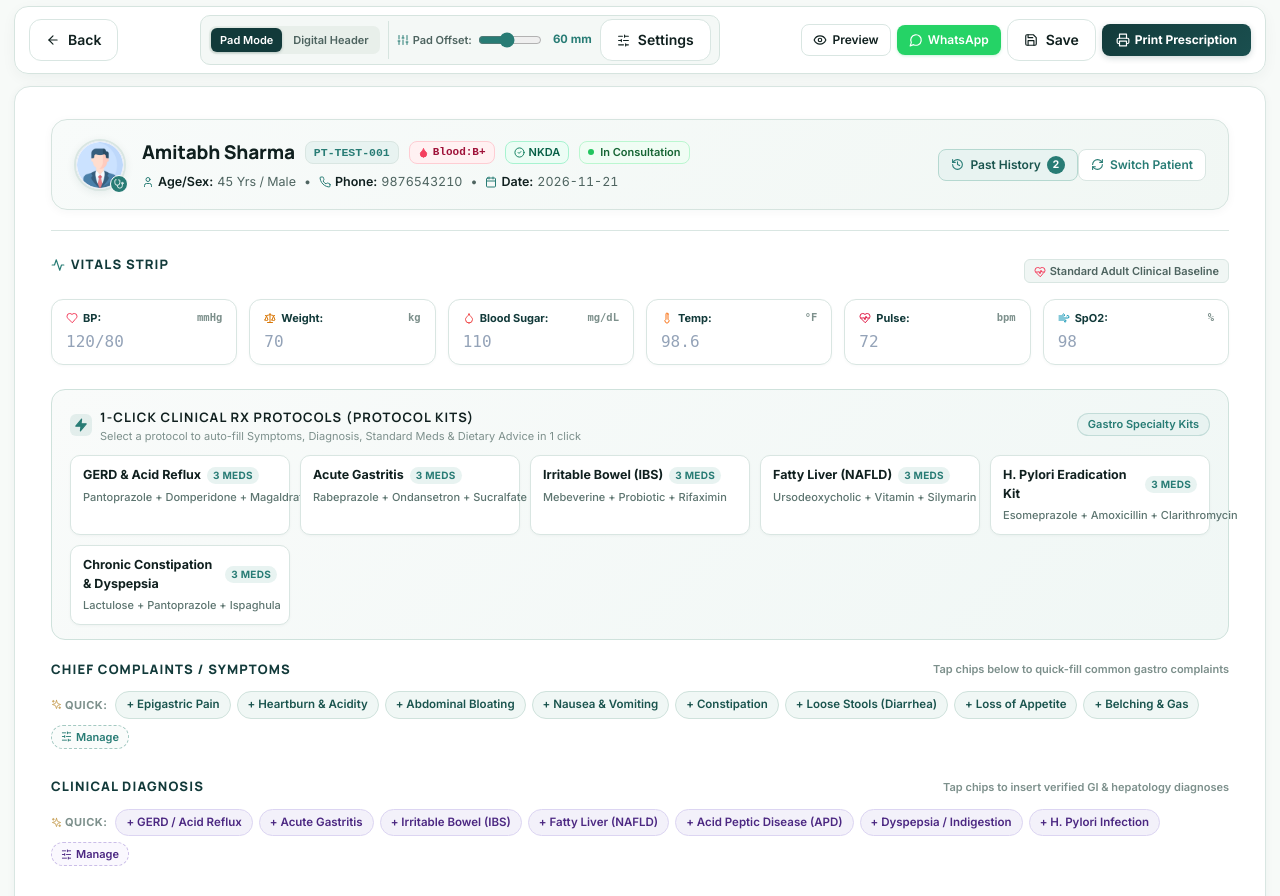
Test case: Prescription Studio - 1-Click Rx Protocols & Patient Past History Drawer › supports searching past records, collapsible timeline, and adding individual medicines
The width and height of the screenshot is (1280, 896).
# Open Past History Drawer
Click the button with aria-label "Patient Past Visits History". click: (1008, 165)
box: [938,149,1078,181]
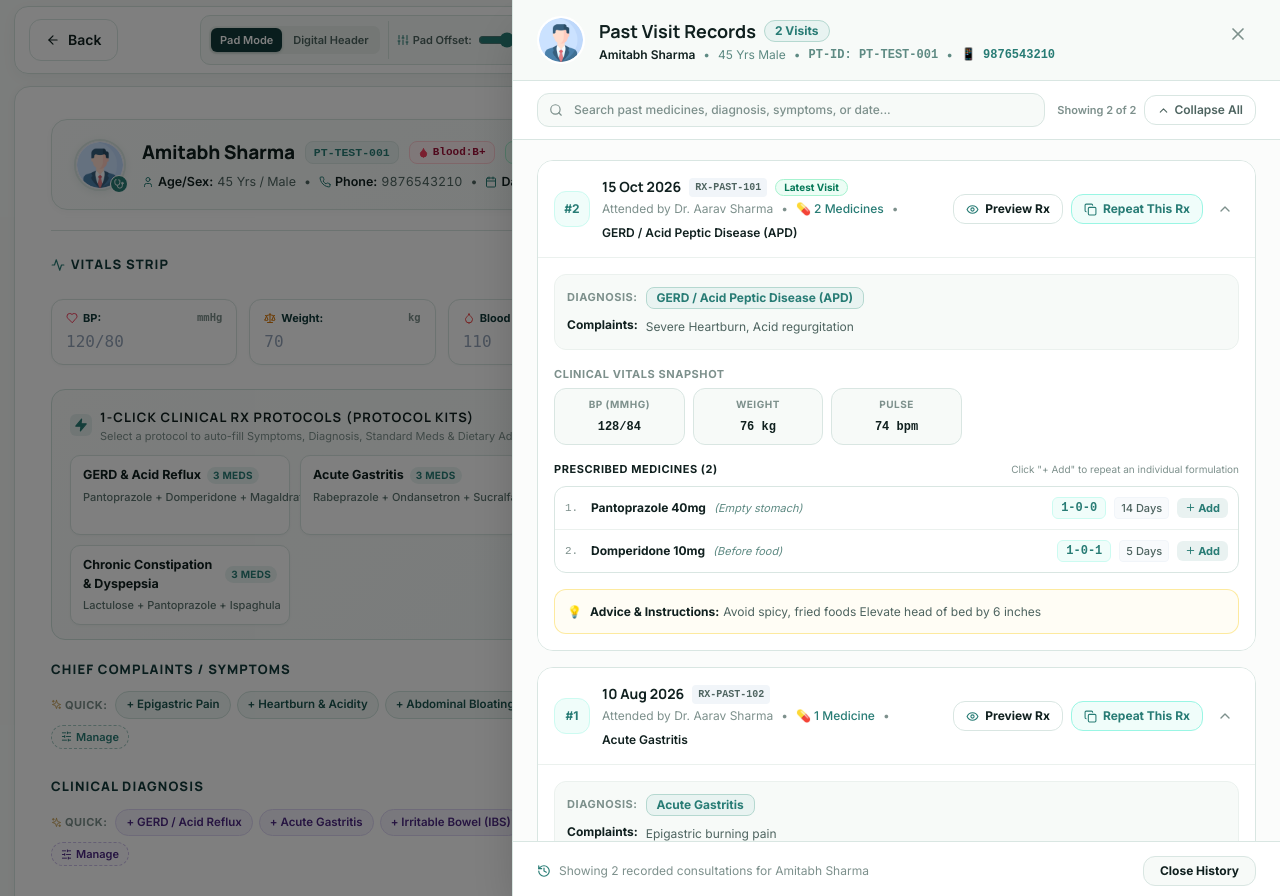
Result: the heading "Past Visit Records" is shown at [599,17,756,45]
Result: the field with placeholder "Search past medicines, diagnosis, symptoms, or date..." is shown
# Type "Domperidone" into search
Type "Domperidone" into the field with placeholder "Search past medicines, diagnosis, symptoms, or date...". click: (791, 110)
box: [537,93,1045,127]
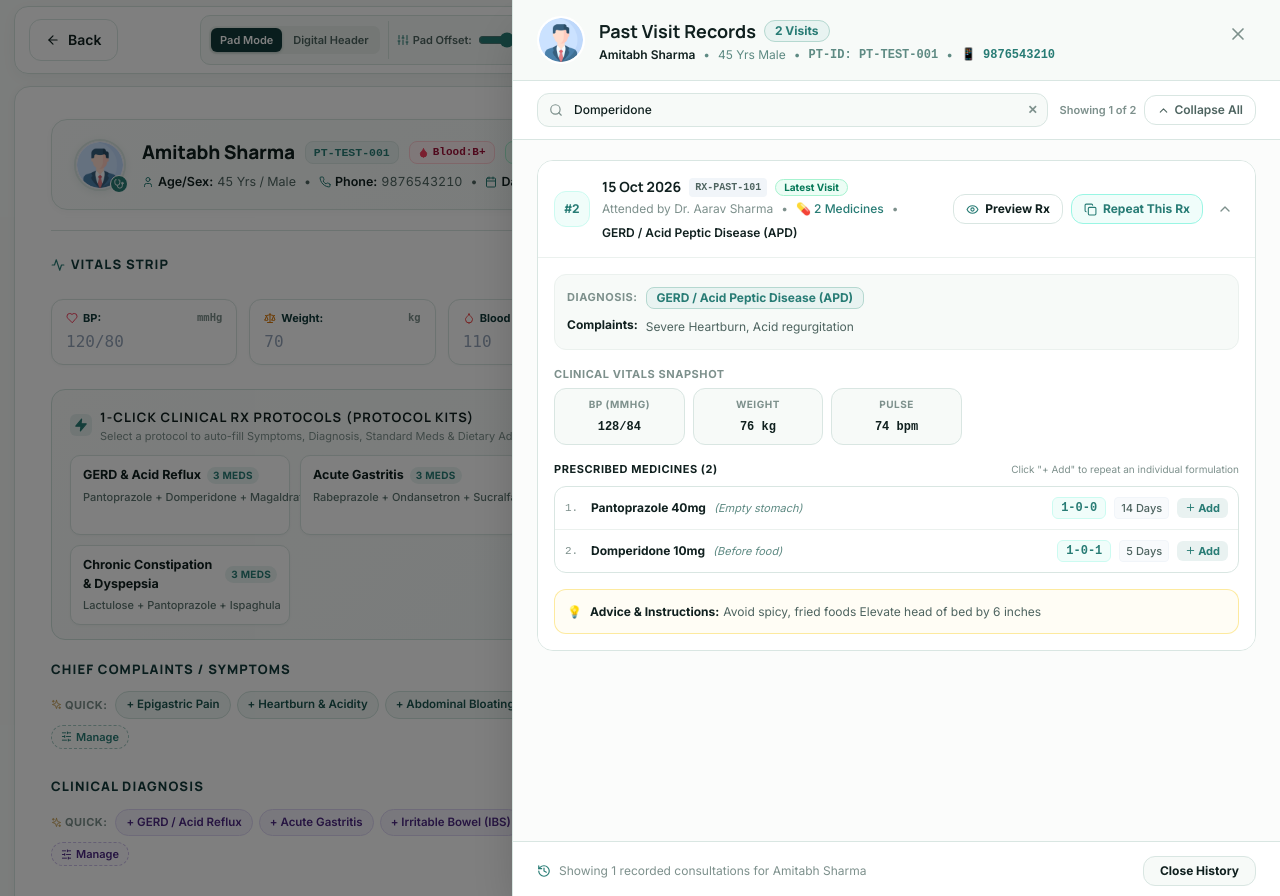
Result: the text "RX-PAST-101" is shown at [689,178,767,196]
Result: the button "Preview Rx" is shown at [953,194,1063,224]
Result: the button with aria-label "Add Pantoprazole 40mg to active prescription" is shown
Click the button with aria-label "Add Pantoprazole 40mg to active prescription". click: (1203, 508)
box: [1177,498,1228,518]
(page scrolled)
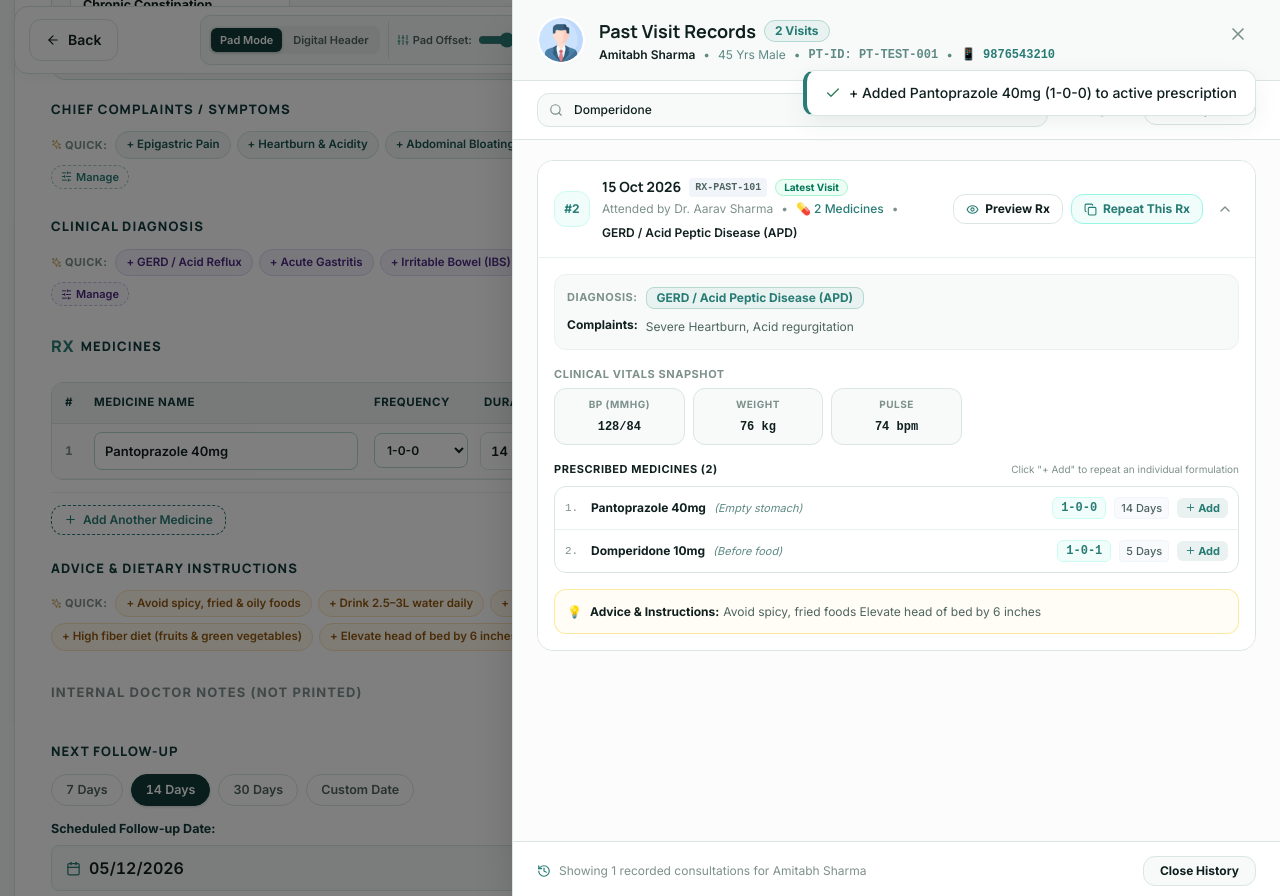
Result: the dropdown showing "Pantoprazole 40mg" is shown at [94,432,358,470]
